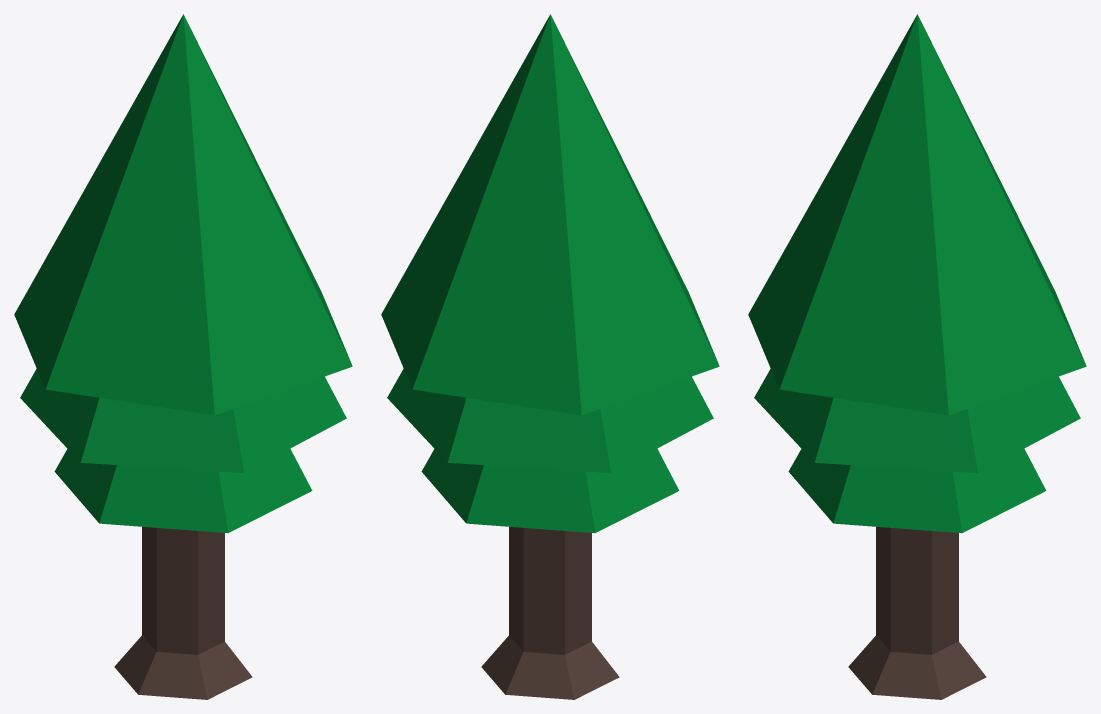
File: small_tree.fbx
3 renders of one model, left to right at view 1: azimuth 30°, elevation 25°; view 2: azimuth 150°, elevation 25°; view 3: azimuth 270°, elevation 25°, orthographic.
Parts seen in each view (by area): view 1: Cone.002; view 2: Cone.002; view 3: Cone.002.
Part boxes in pixels (<box>): Cone.002: <box>14,14,352,699</box>; Cone.002: <box>381,14,719,699</box>; Cone.002: <box>748,14,1086,699</box>.
Size of the model in its own units: 113 by 231 by 108.
